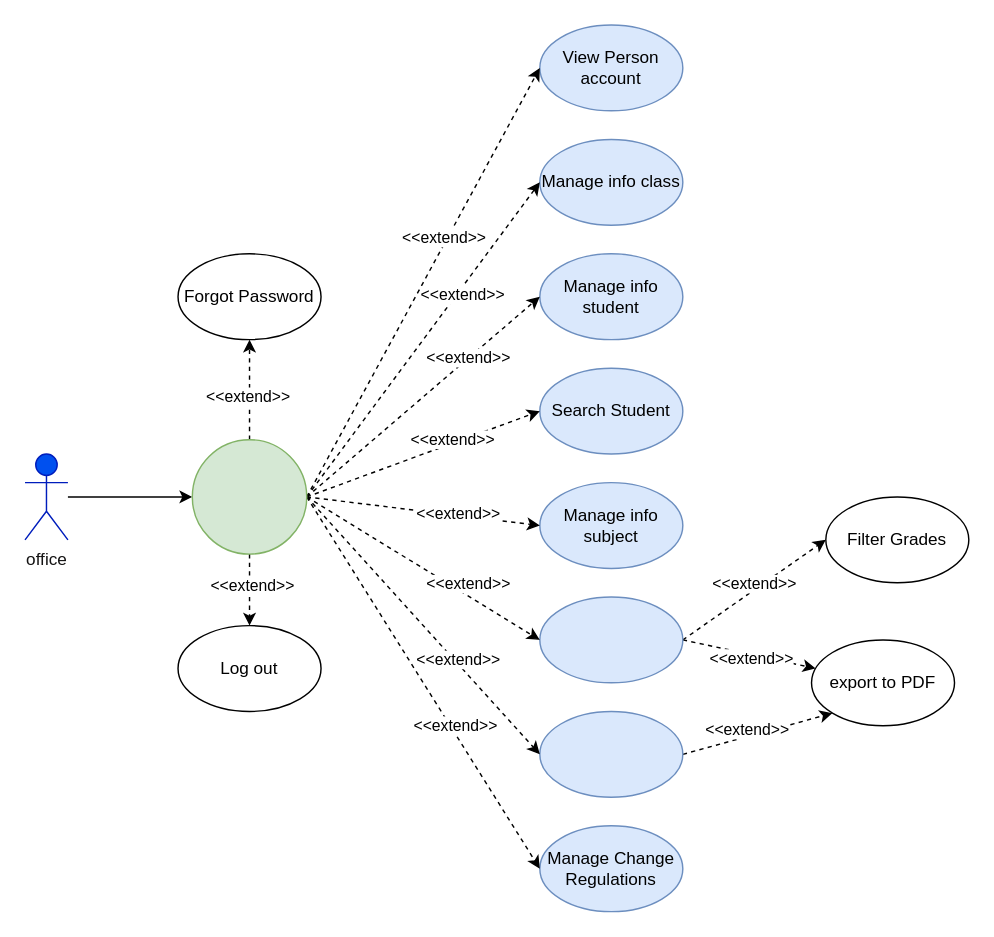
Image size: 994x937. Some labels were removed from this diagram. Here are the shapes that lost their labels. From the top down, the centre of each, then its label:
the point at 249,496: Log in
the point at 610,639: View Grades
the point at 610,753: Generate Reports
